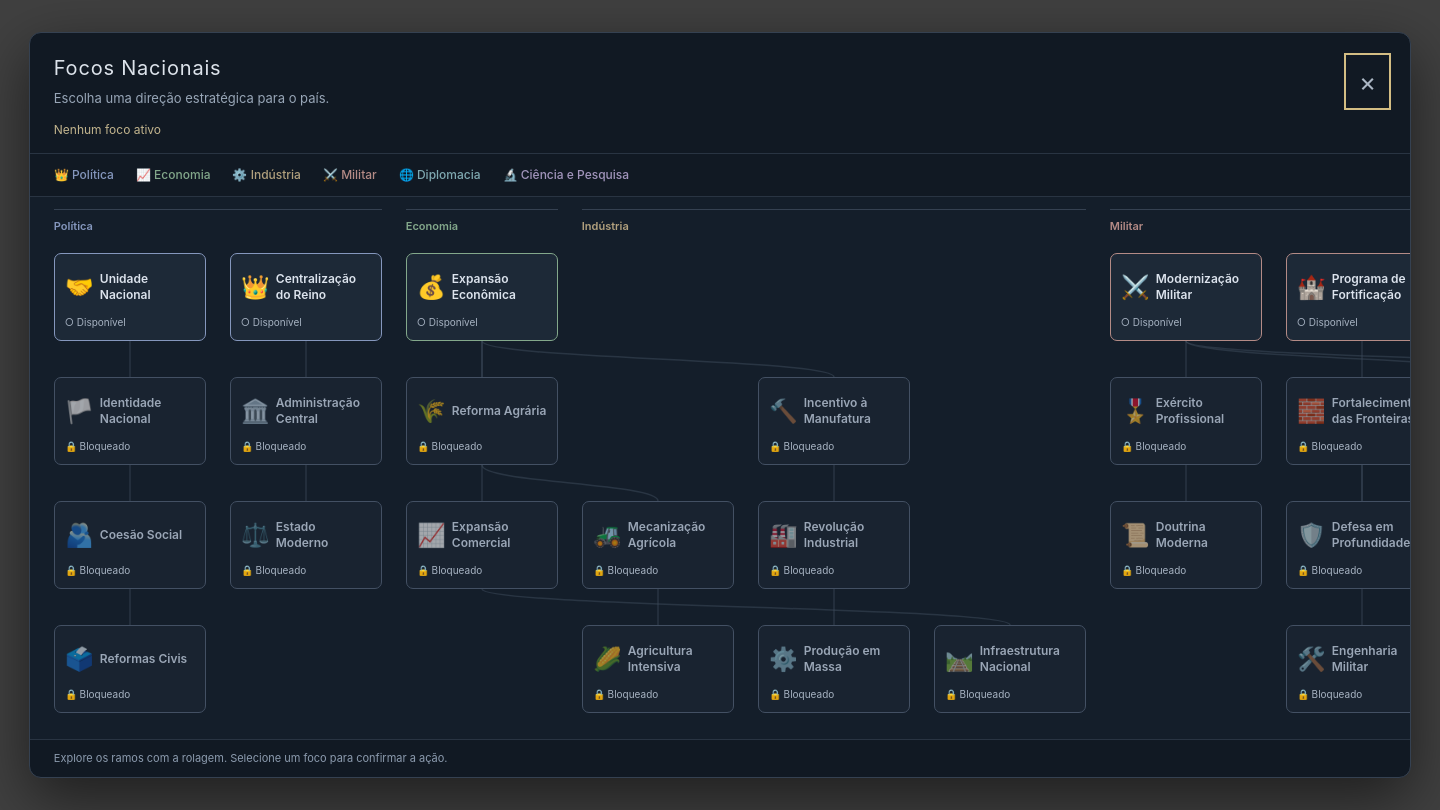
Test: Focus UI V2 › opens rich details on hover with description, category, duration and formatted effects
Hover over the button "⚔️ Modernização Militar ○ Disponível" at (1186, 297), box [1110,253,1262,341]
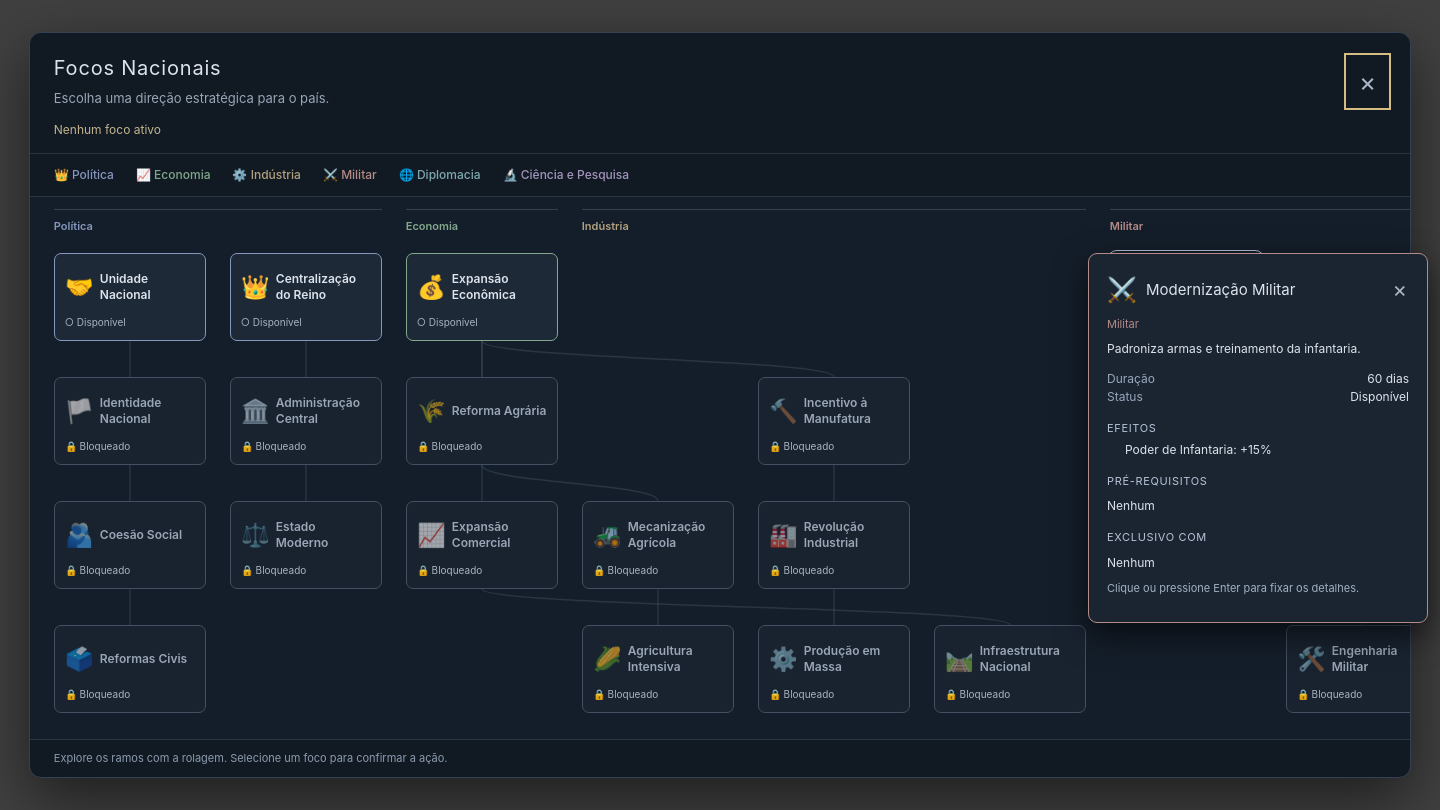
Now the text "Padroniza armas e treinamento da infantaria." is shown, box [1107,341,1361,356]
Now the 2nd text "Militar" is shown, box [1107,317,1139,331]
Now the text "60 dias" is shown, box [1367,370,1409,388]
